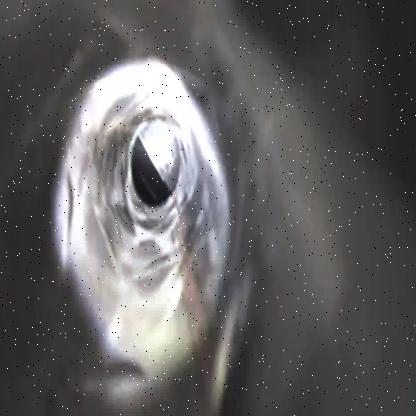Crack: (75, 70, 224, 280)
